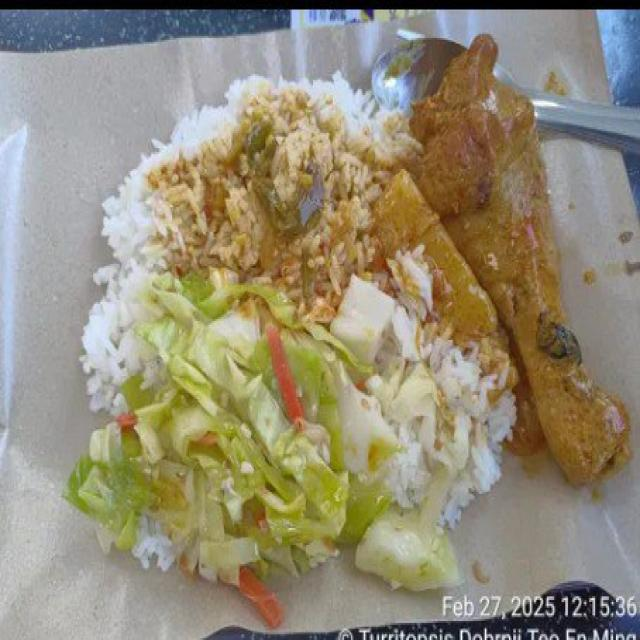Chicken: (412, 36, 627, 479)
Green veg: (68, 287, 455, 616)
Rice: (80, 74, 516, 524)
